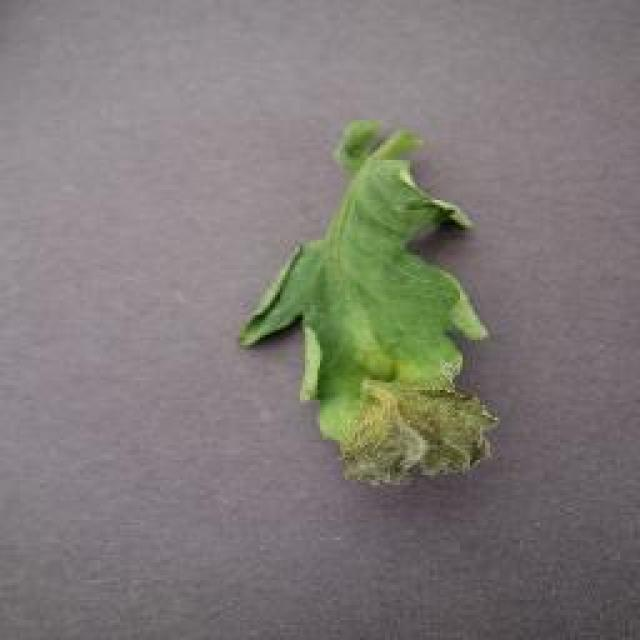Tomato Late Blight: (315, 325, 498, 482)
